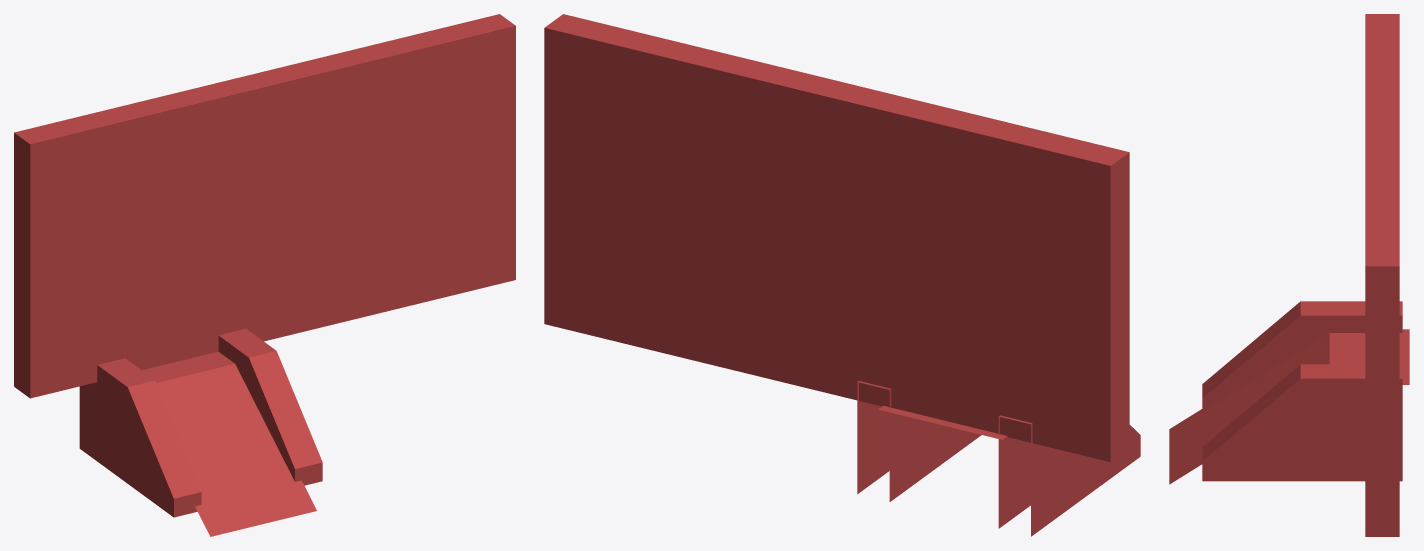
Rendered from wall5a.FBX.
3 renders of one model, left to right at view 1: azimuth 30°, elevation 25°; view 2: azimuth 150°, elevation 25°; view 3: azimuth 270°, elevation 25°, orthographic. The views are drawn at different scales.
Parts seen in each view (by area): view 1: Object297; view 2: Object297; view 3: Object297.
Part boxes in pixels (left/top/right/bottom): Object297: left=14, top=14, right=515, bottom=536; Object297: left=544, top=14, right=1140, bottom=536; Object297: left=1169, top=14, right=1409, bottom=536.
Bounding box in the file's own units: 8 × 5.46 × 3.22.
